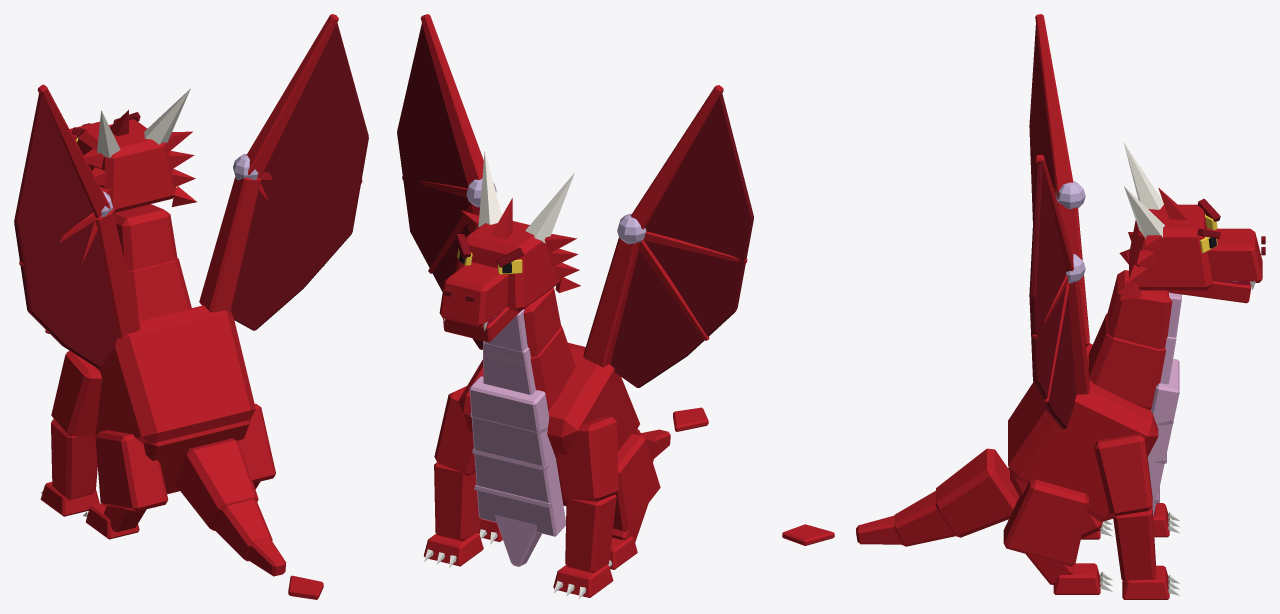
File: RedDragon.glb
3 views of the same model, side by side, from view 1: azimuth 30°, elevation 25°; view 2: azimuth 150°, elevation 25°; view 3: azimuth 270°, elevation 25° (orthographic).
Parts seen in each view (by area): view 1: RedDragon; view 2: RedDragon; view 3: RedDragon.
Part boxes in pixels (box(x1,y1,x2,y2)): RedDragon: box(14, 14, 368, 599); RedDragon: box(397, 14, 753, 599); RedDragon: box(782, 14, 1265, 599).
Bounding box in the file's own units: 11.81 × 15.24 × 14.04.
Materials: 1 (1 with a texture image).
